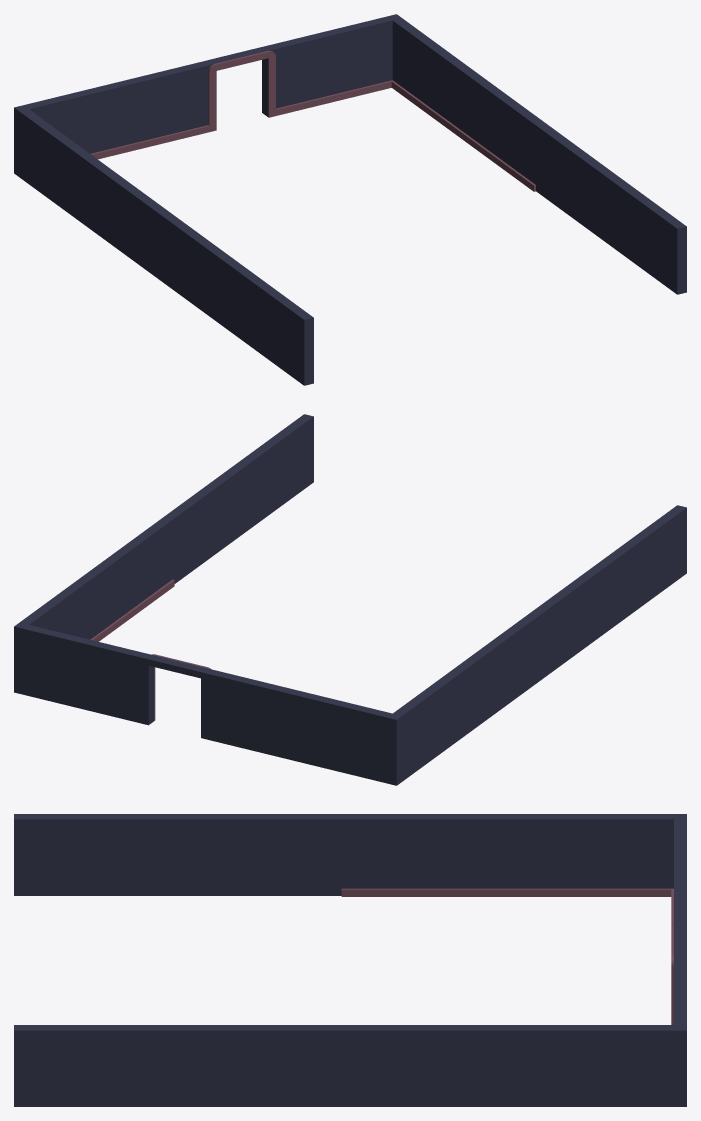
Rendered from HotelWalls.fbx.
3 renders of one model, top to bottom at view 1: azimuth 30°, elevation 25°; view 2: azimuth 150°, elevation 25°; view 3: azimuth 270°, elevation 25°, orthographic. The views are drawn at different scales.
Visible parts, largest first — view 1: Cube.011, Cube.014, Cube.006, Cube.009, Cube.007; view 2: Cube.011, Cube.014, Cube.006, Cube.009, Cube.007; view 3: Cube.014, Cube.011, Cube.007, Cube.006, Cube.009.
Boxes of the visible parts, x1,y1,x2,y2 form: Cube.011: (14, 105, 313, 385); Cube.014: (387, 14, 686, 294); Cube.006: (14, 60, 214, 177); Cube.009: (262, 16, 392, 116); Cube.007: (91, 47, 535, 191); Cube.011: (387, 505, 686, 785); Cube.014: (14, 414, 313, 694); Cube.006: (201, 668, 402, 785); Cube.009: (23, 625, 154, 725); Cube.007: (90, 579, 211, 720); Cube.014: (14, 1025, 686, 1106); Cube.011: (14, 814, 686, 895); Cube.007: (341, 888, 686, 1024); Cube.006: (674, 814, 686, 924); Cube.009: (674, 954, 686, 1024).
Size of the model in its own units: 12.76 by 2.1 by 16.76.
